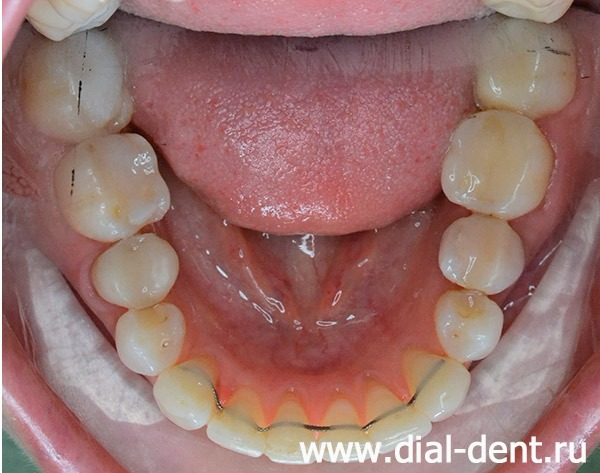LL1BC_decay: (436, 292, 500, 356)
LL1M_healthy: (441, 111, 549, 216)
LL2BC_healthy: (440, 217, 522, 289)
LL2M_decay: (479, 21, 575, 110)
LLCI_decay: (317, 402, 365, 440)
LLC_decay: (405, 353, 469, 417)
LLLI_decay: (365, 387, 428, 439)
LR1BC_healthy: (117, 303, 185, 372)
LR1M_healthy: (76, 134, 169, 239)
LR2BC_healthy: (92, 235, 179, 306)
LR2M_decay: (27, 35, 134, 137)
LRCI_decay: (266, 401, 316, 442)
LRC_healthy: (157, 358, 216, 427)
LRLI_healthy: (211, 388, 264, 459)
